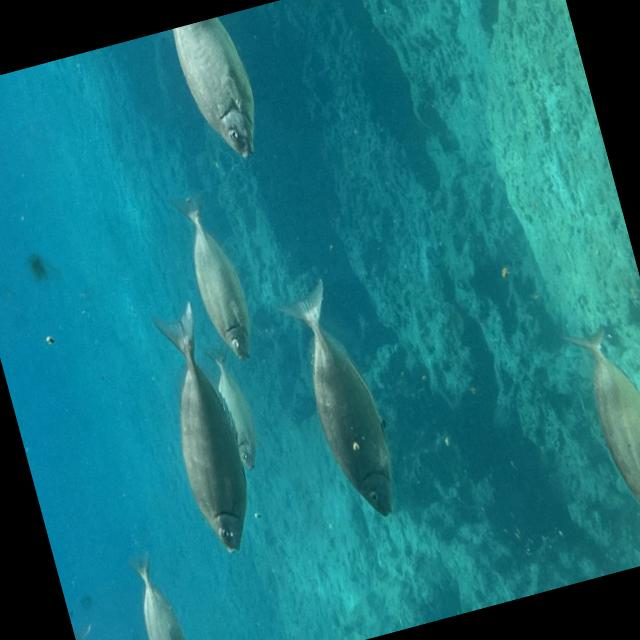Sokar Baligi: (265, 248, 414, 542), (130, 292, 268, 566), (544, 308, 640, 558)
